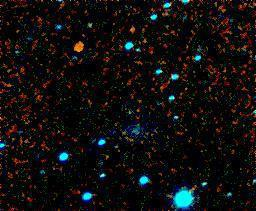star: (61, 31, 91, 61)
